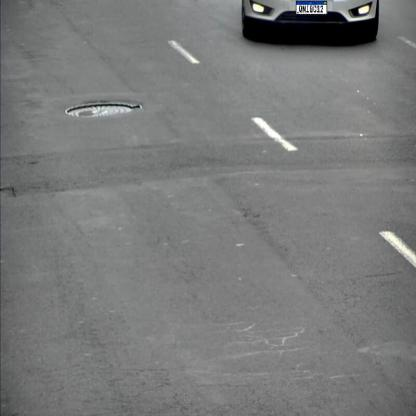PlacaM: (296, 0, 327, 14)
